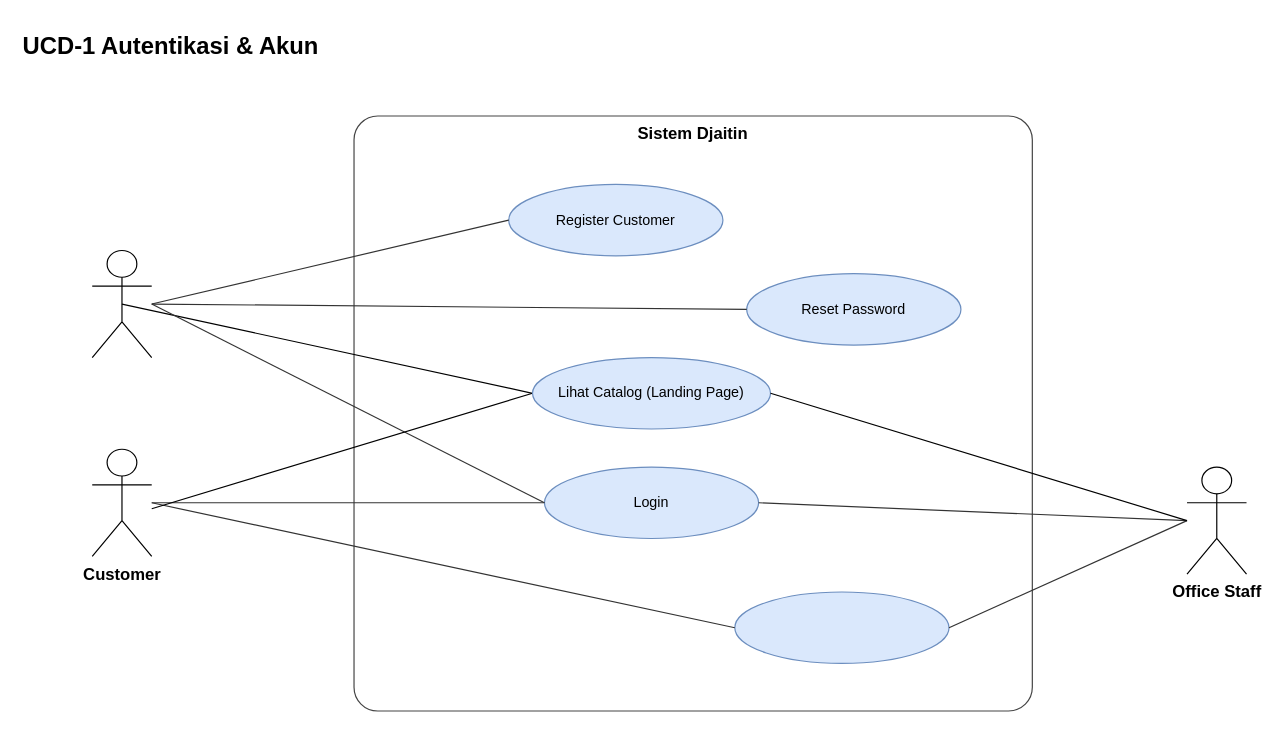
Some shapes in this 1282 by 732 pixel diagram are drawn without their labels. The shapes that lost their labels are listed below. From the top down, each one's centre as x and y in pixels, then its label:
At [121,303]: "Guest".
At [841,627]: "Logout".
